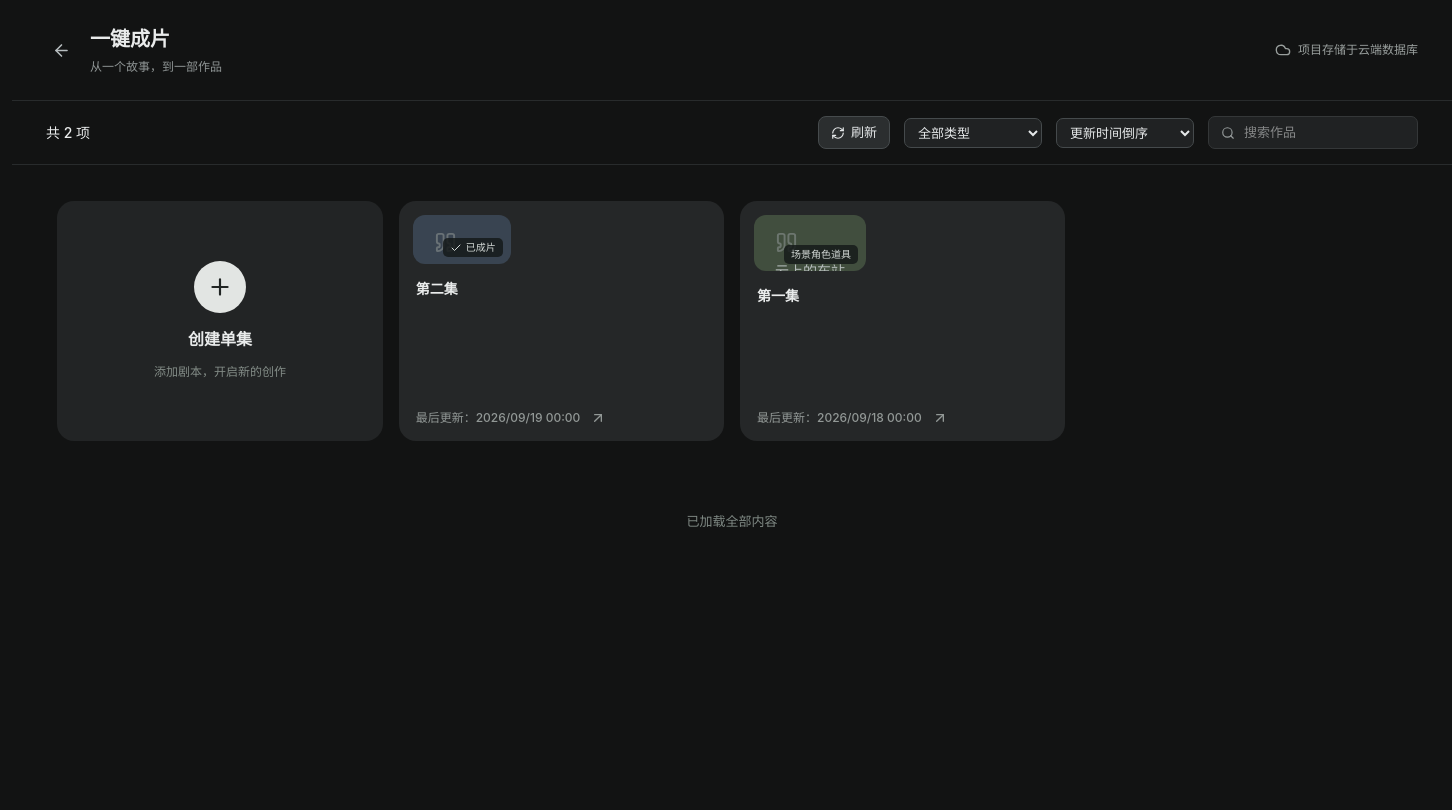
Test: film project library › keeps the same draft identity when retrying a failed creation
The image size is (1452, 810).
Later steps or results of the test are not shown.
Click the button "创建单集 添加剧本，开启新的创作". click: (220, 287)
box: [57,201,383,441]
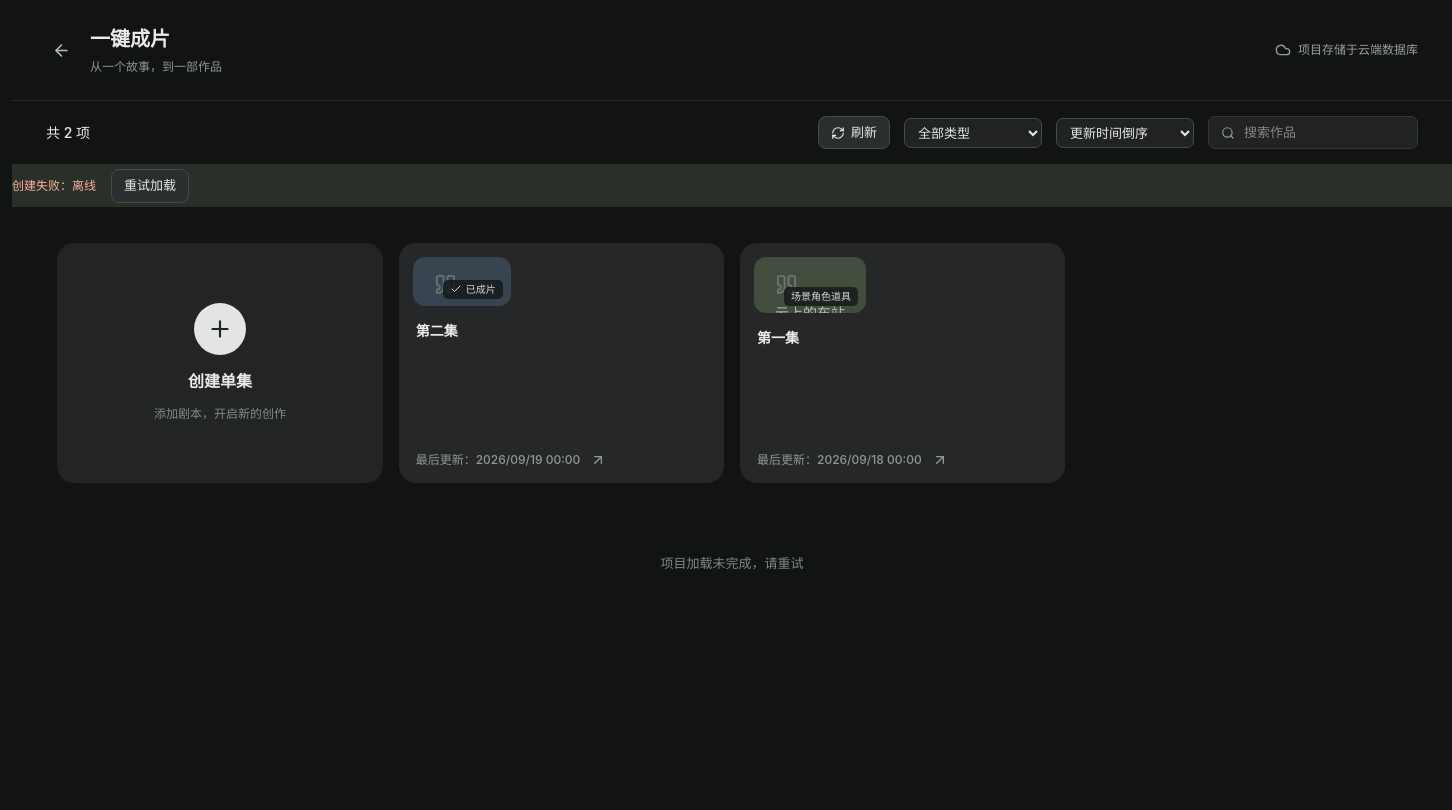
expect the button "创建单集 添加剧本，开启新的创作" is shown: met, box [57,242,383,482]
expect the text "创建失败" is shown: met, box [12,178,96,193]
